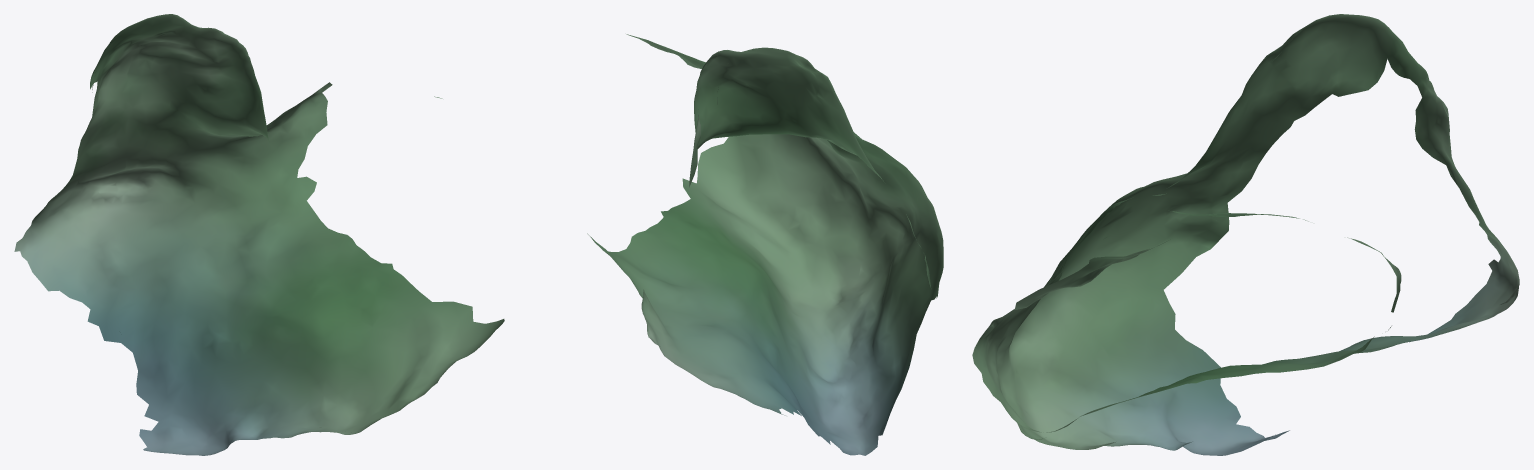
The model's file is LODS_Cloud_global_12.glb.
3 renders of one model, left to right at view 1: azimuth 30°, elevation 25°; view 2: azimuth 150°, elevation 25°; view 3: azimuth 270°, elevation 25°, orthographic. The views are drawn at different scales.
Parts seen in each view (by area): view 1: LOD0; view 2: LOD0; view 3: LOD0.
Part boxes in pixels (x1=…): LOD0: x1=14, y1=14, x2=504, y2=455; LOD0: x1=587, y1=34, x2=943, y2=455; LOD0: x1=972, y1=14, x2=1519, y2=455.
Size of what is drawn, in the model's own units: 0.2126 by 0.2415 by 0.267.
